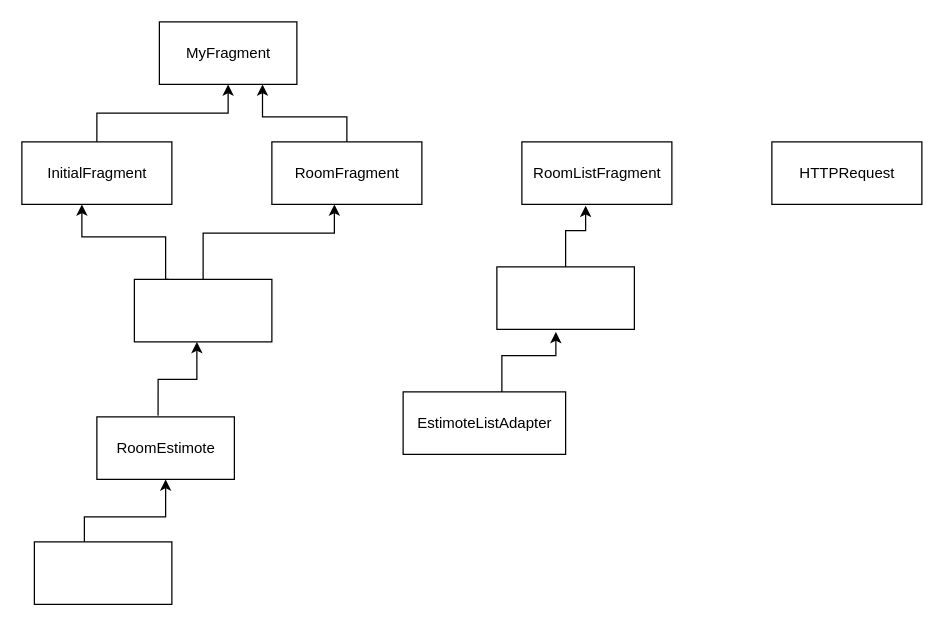
This 944x626 diagram has some shape labels left out. The shapes that lost their labels are listed below. From the top down, each one's centre as x and y in pixels, then its label:
point 202,310: Room
point 565,297: RoomList Adapter
point 102,572: Coordinate
